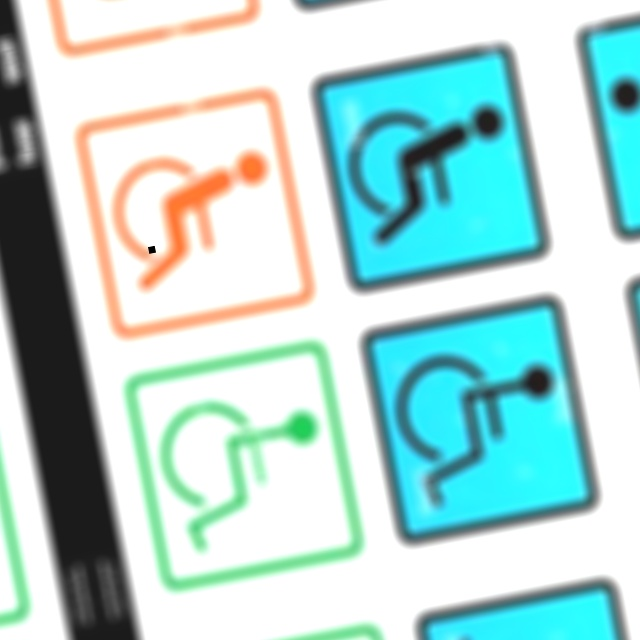ISA: (384, 336, 574, 513), (150, 381, 338, 559), (341, 93, 523, 252), (102, 138, 285, 296), (438, 611, 627, 640), (606, 42, 640, 200), (45, 0, 229, 6), (0, 446, 5, 624)
